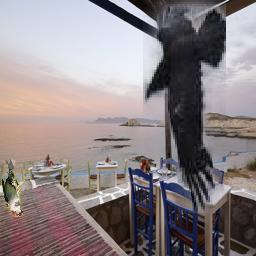Crow: (144, 0, 227, 213)
Sparrow: (1, 159, 23, 218)
